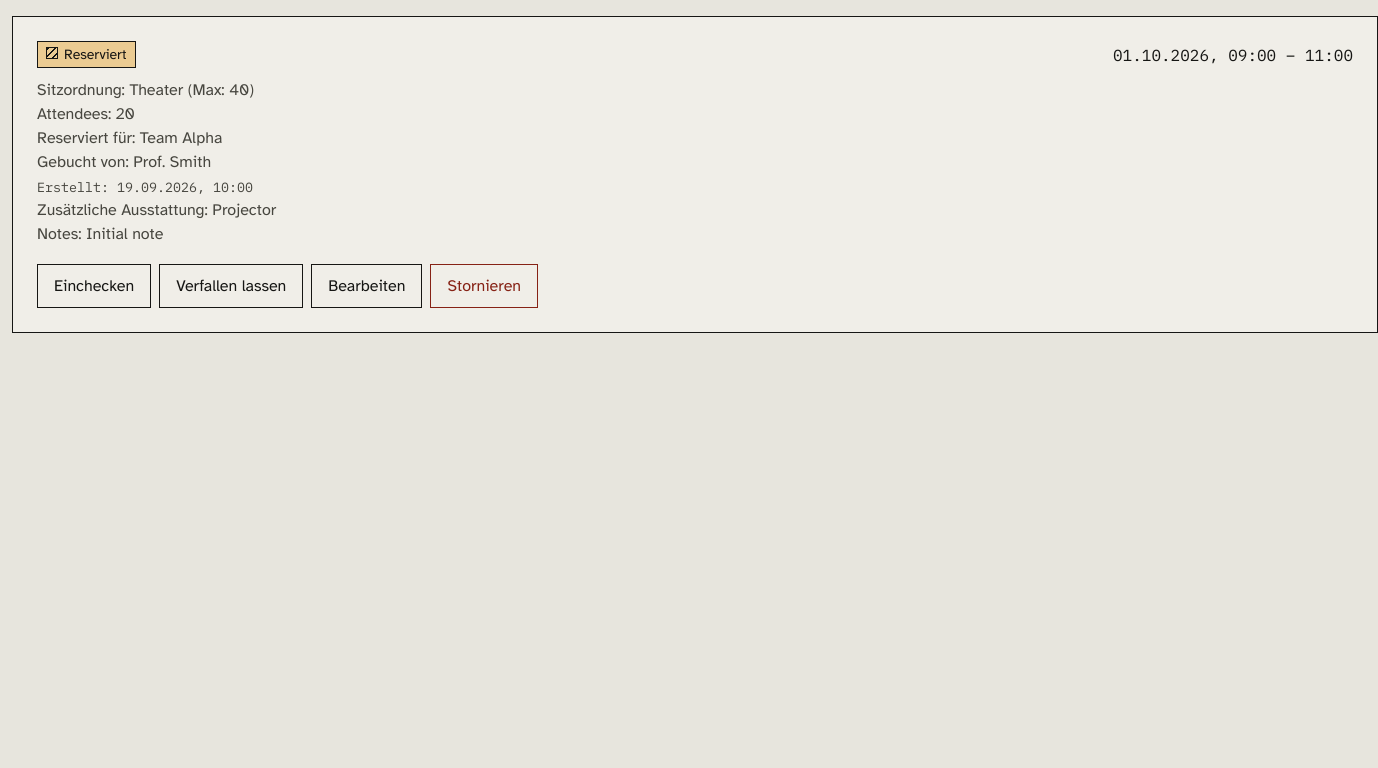
Test: ReservationList › rejects fractional attendee counts in the edit form
Click the button "Bearbeiten" at (367,286), box [311,264,422,308]
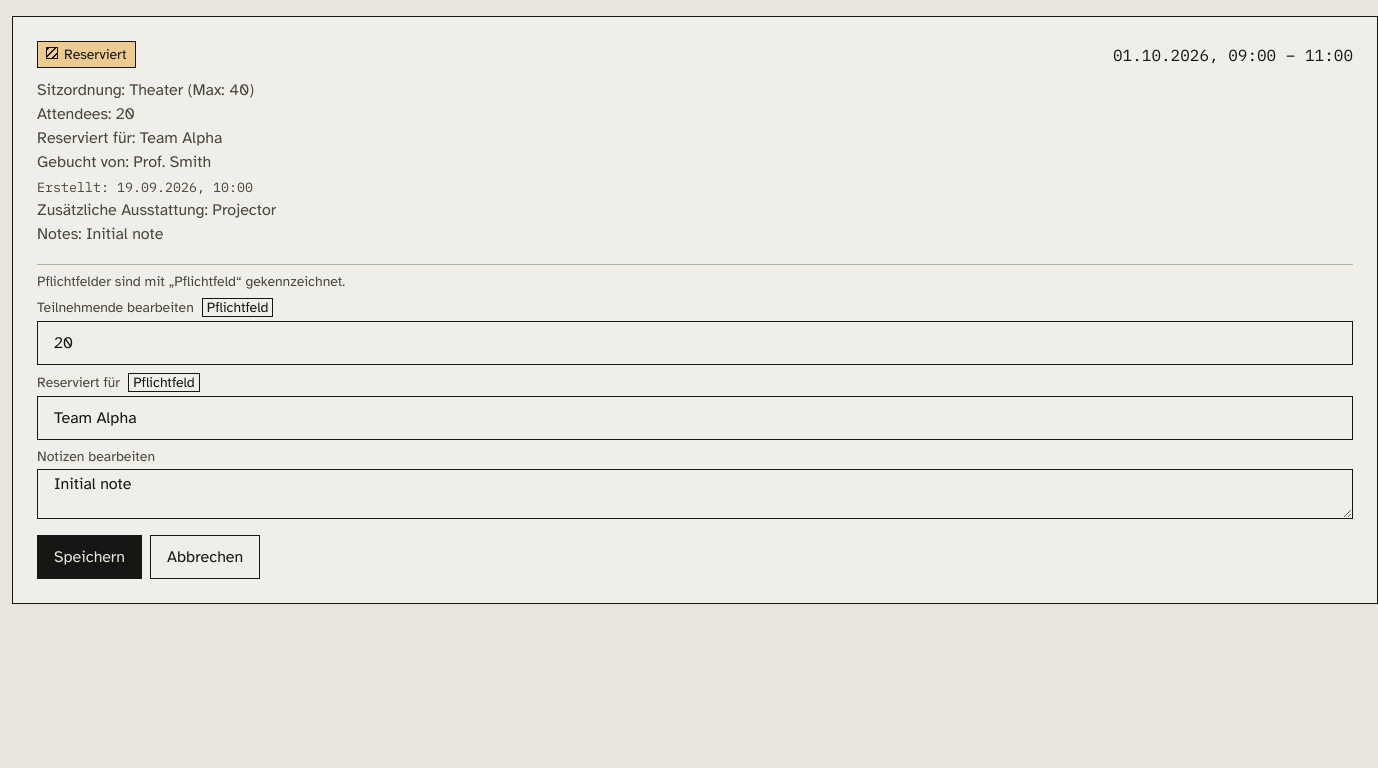
Replace the text in the number field labelled "Teilnehmende bearbeiten" with "1.5" at (695,343), box [37,321,1353,365]
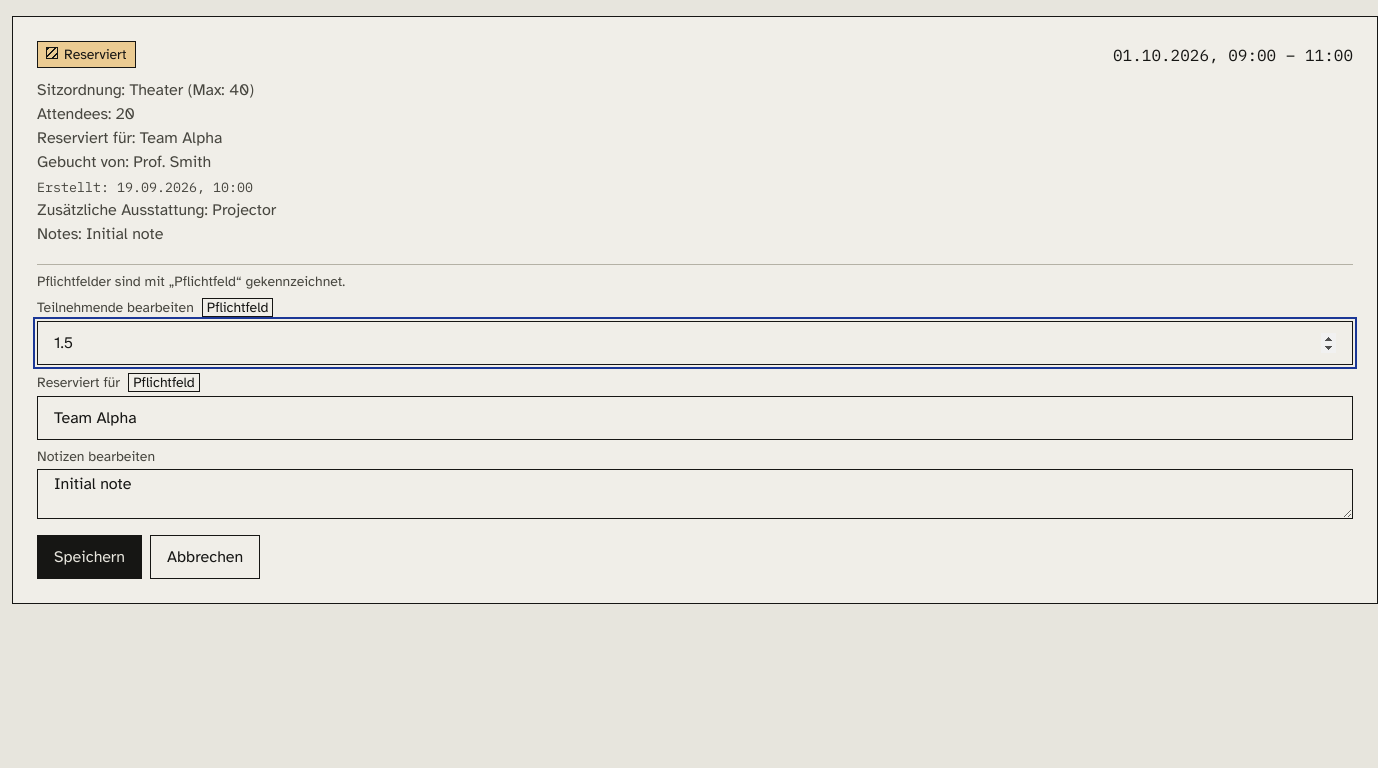
Click the button "Speichern" at (90,557), box [37,535,142,579]
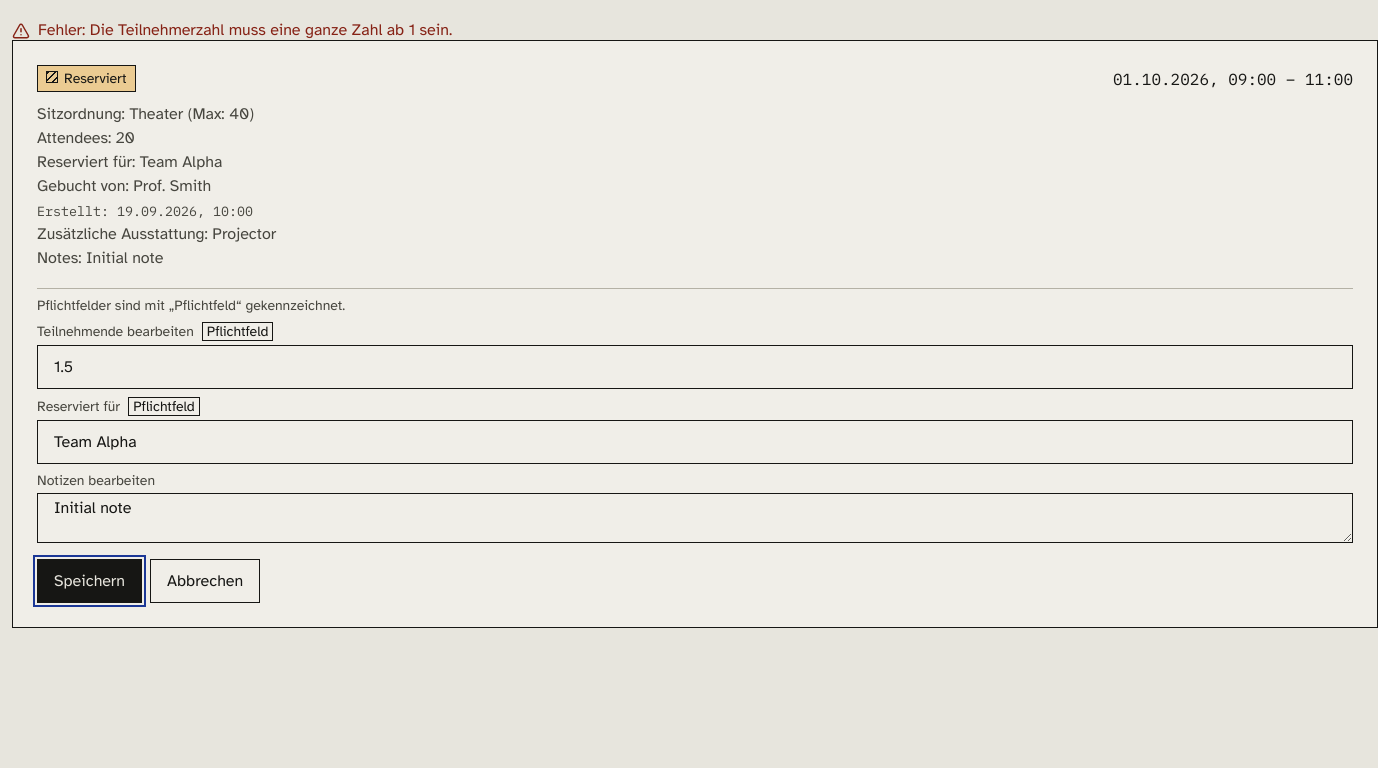
Expected: the text "Fehler: Die Teilnehmerzahl muss eine ganze Zahl ab 1 sein." is shown, [38,20,452,40]
